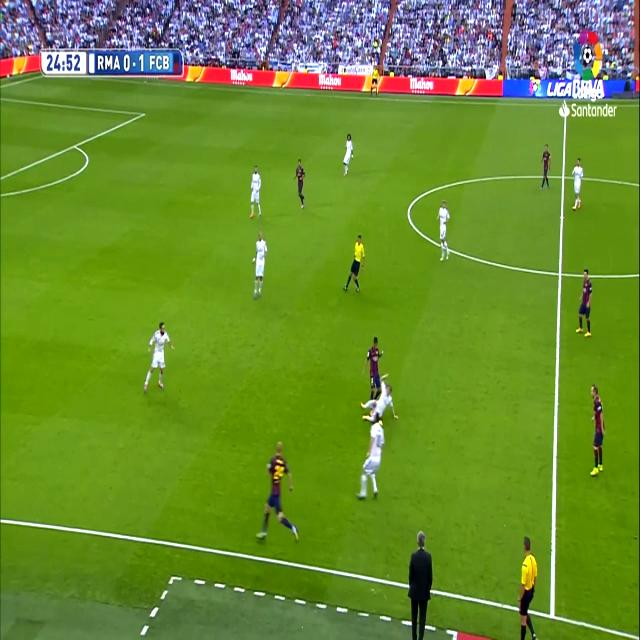bigarea_bottom_outter: (71, 138, 79, 152)
halfcircle_bottom: (554, 260, 566, 285)
halfcircle_top: (558, 166, 568, 186)
midline_bottom_intersection: (545, 598, 559, 627)
